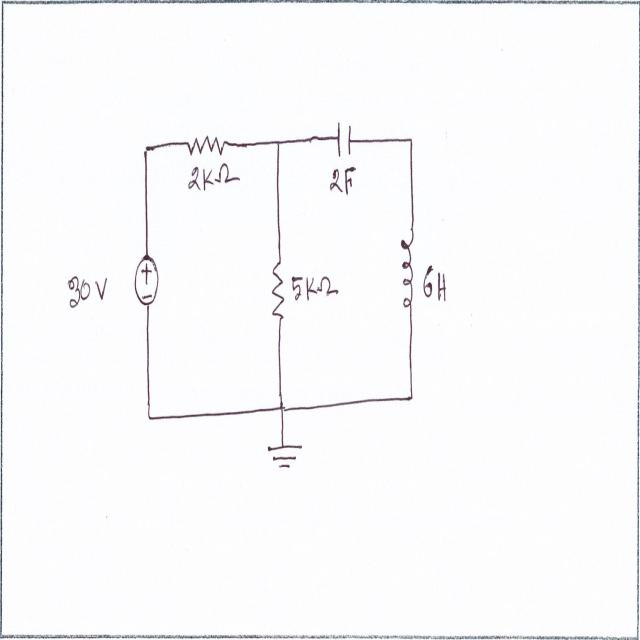capacitor: (334, 113, 356, 160)
ground: (267, 440, 305, 476)
inductor: (398, 225, 416, 316)
resistor: (185, 126, 227, 161), (270, 253, 288, 329)
voltage_source: (134, 253, 161, 309)
